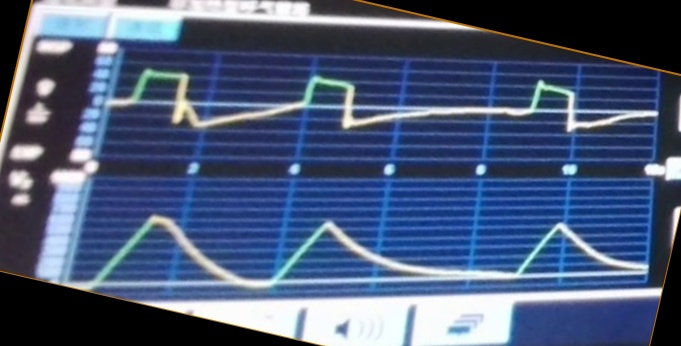Premature_cycling Flow: (118, 63, 631, 160)
Premature_cycling Volume: (83, 210, 645, 288)
